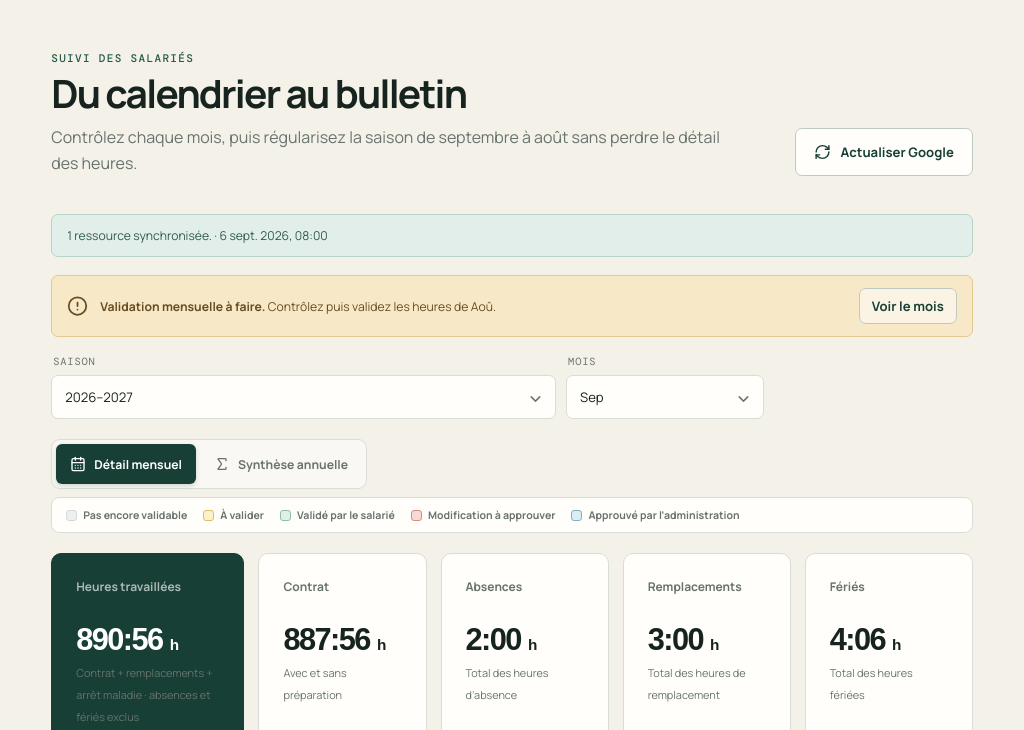
TimeTrackingPage › limits an employee to their own read-only tracking and lets a CDI validate the previous month
Expected: the text "Validation mensuelle à faire." is shown, [100,298,265,315]
Expected: the button "Actualiser Google" is shown, [795,128,973,176]
Click the button "Voir le mois": x=908, y=306 [859,288,957,324]
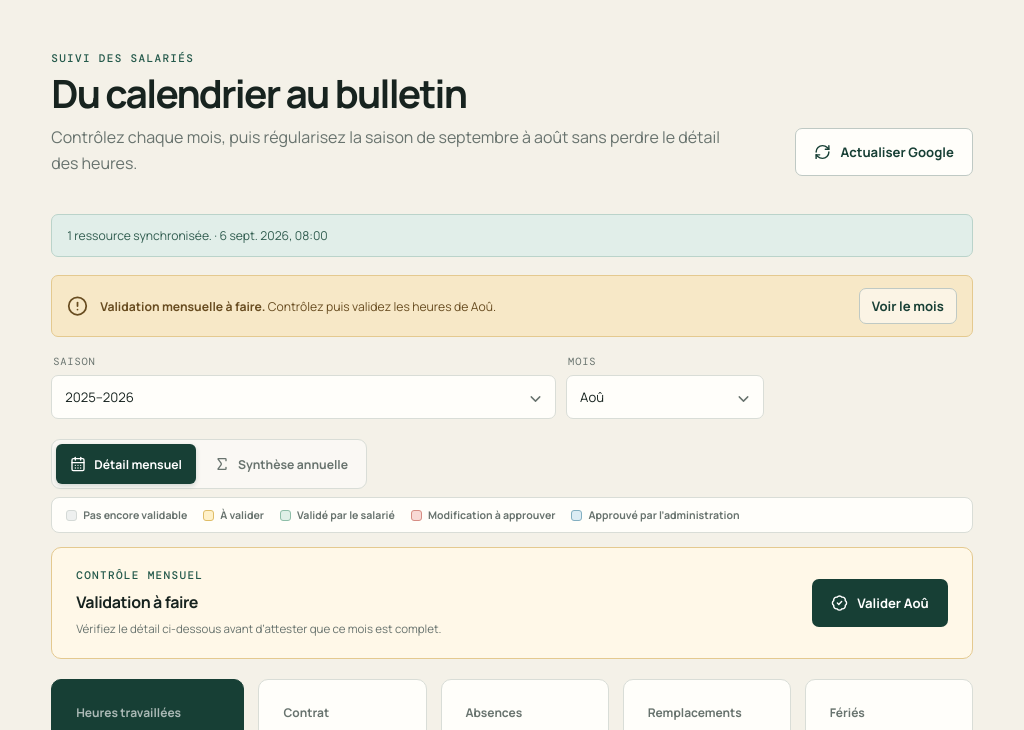
Click the button "Valider Aoû": x=880, y=603 [812,579,948,627]
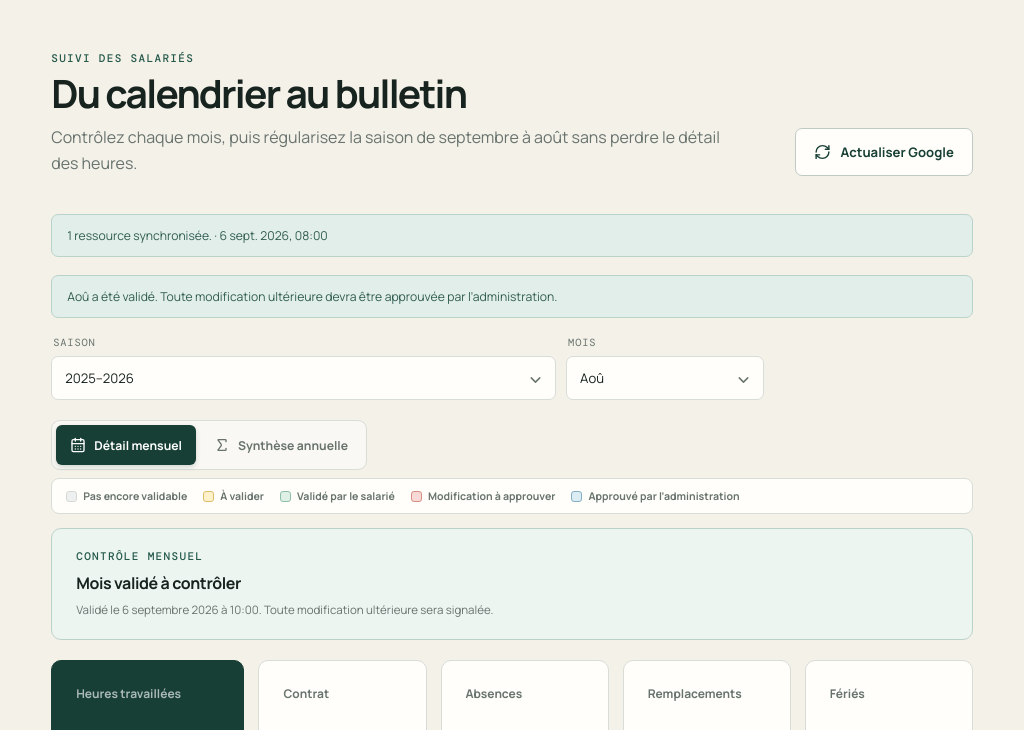
Now the text "Aoû a été validé." is shown, box [67,288,557,305]
